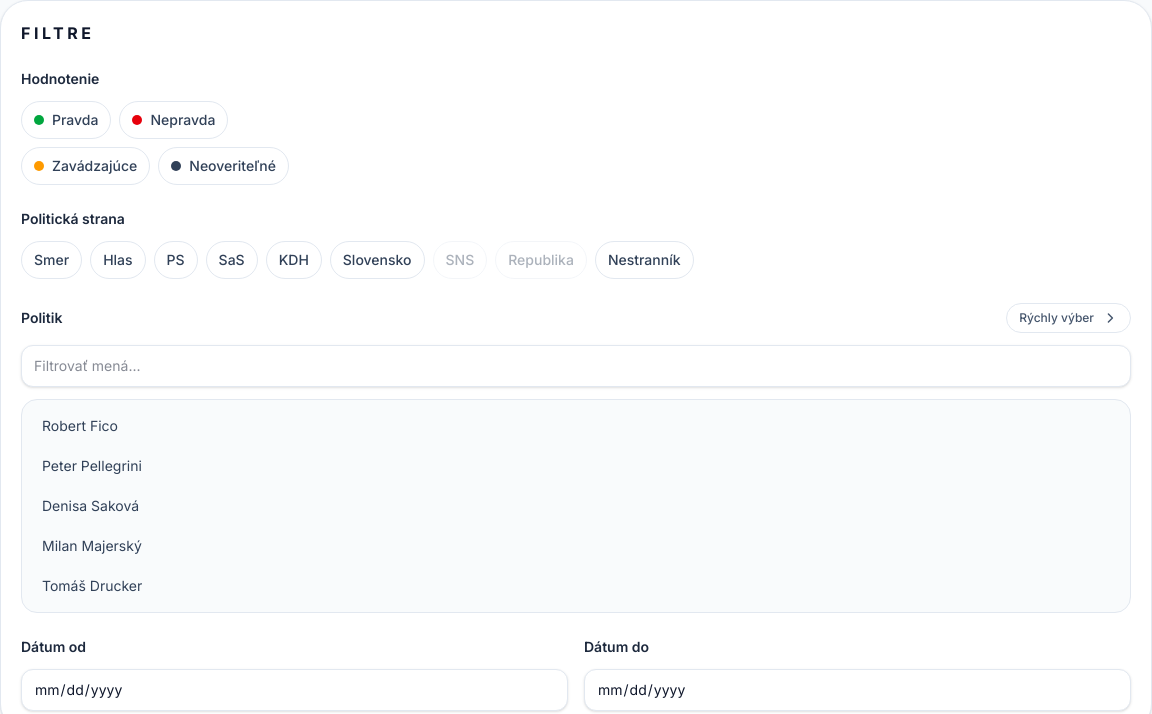
Test case: FilterSidebar › opens the recommended politician panel and toggles a card
This screenshot has width=1152, height=714.
Step 1. Click the button with aria-label "Zobraziť panel odporúčaných politikov" → {"x": 1069, "y": 318}, box [1006,303,1131,333]
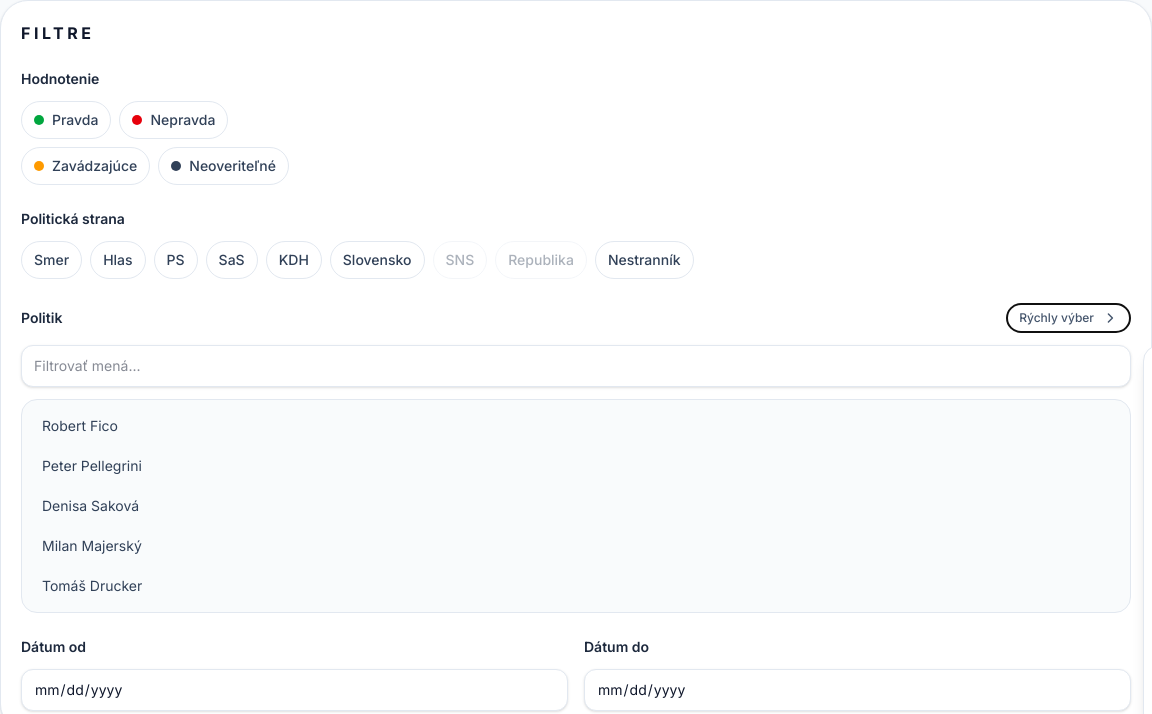
Expected: the button with aria-label "Skryť panel odporúčaných politikov" is shown, [1006,303,1131,333]
Step 2. Click the button "Peter Pellegrini" → {"x": 92, "y": 466}, box [30,448,1122,484]
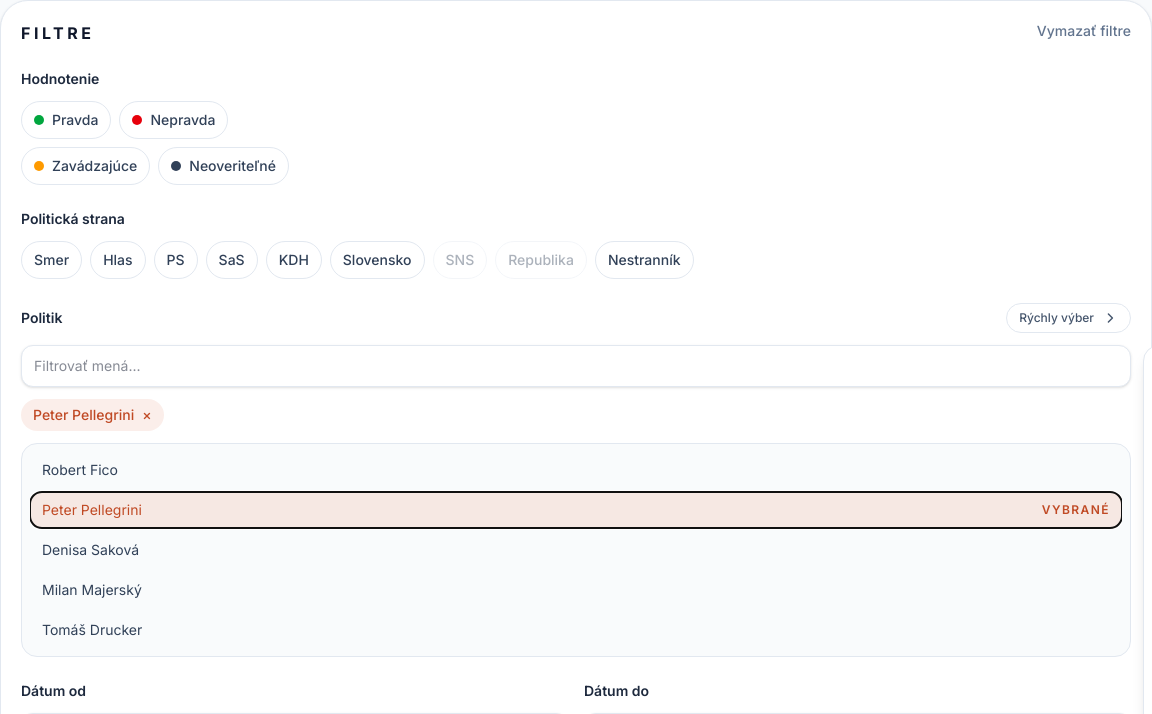
Expected: the button "Peter Pellegrini ×" is shown, [21,399,164,431]
